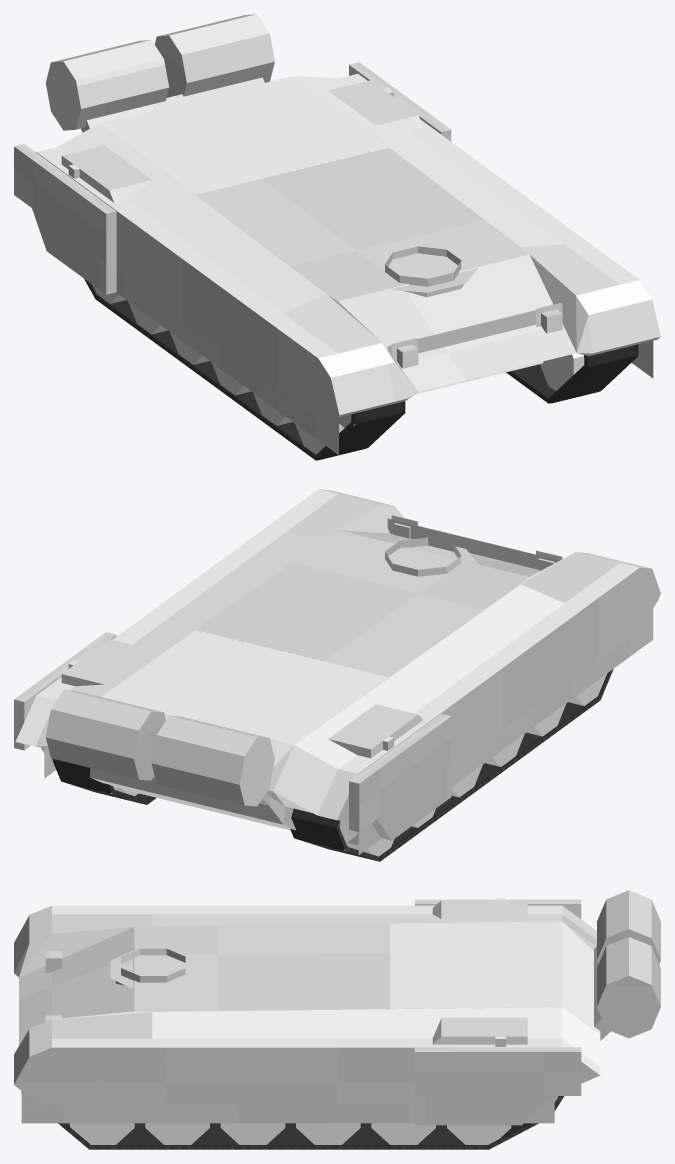
Rendered from t72hull.obj.
The picture shows the model from 3 angles, top to bottom: view 1: azimuth 30°, elevation 25°; view 2: azimuth 150°, elevation 25°; view 3: azimuth 270°, elevation 25°; orthographic projection. The views are drawn at different scales.
Parts seen in each view (by area): view 1: hull, cube29, TracksL, cube3, TracksR, LeftExhaust, cube28, RightExhaust, cube7, cylinder30, cube27, wheel; view 2: hull, cube29, cube3, TracksL, LeftExhaust, cube28, RightExhaust, cube7, cube27, TracksR, cylinder30; view 3: hull, cube4, cube27, TracksR, cube26, RightExhaust, LeftExhaust, wheel13, wheel12, wheel14, wheel, wheel15 (+4 smaller).
Boxes of the visible parts, <box> form: hull: <box>36,14,660,421</box>; cube29: <box>14,144,116,262</box>; TracksL: <box>84,279,405,460</box>; cube3: <box>116,273,338,454</box>; TracksR: <box>506,344,638,403</box>; LeftExhaust: <box>61,145,151,202</box>; cube28: <box>32,208,116,294</box>; RightExhaust: <box>328,80,423,130</box>; cube7: <box>387,303,562,355</box>; cylinder30: <box>385,246,461,286</box>; cube27: <box>349,62,451,141</box>; wheel: <box>540,353,584,390</box>; hull: <box>15,489,660,830</box>; cube29: <box>349,713,451,831</box>; cube3: <box>358,609,653,854</box>; TracksL: <box>290,669,613,861</box>; LeftExhaust: <box>328,704,422,758</box>; cube28: <box>371,765,451,840</box>; RightExhaust: <box>61,639,151,686</box>; cube7: <box>387,518,559,569</box>; cube27: <box>14,632,116,750</box>; TracksR: <box>52,758,156,804</box>; cylinder30: <box>385,537,461,576</box>; hull: <box>14,890,660,1103</box>; cube4: <box>21,1090,554,1123</box>; cube27: <box>414,1047,581,1095</box>; TracksR: <box>21,1090,564,1149</box>; cube26: <box>414,1096,548,1125</box>; RightExhaust: <box>432,1017,527,1044</box>; LeftExhaust: <box>432,900,527,918</box>; wheel13: <box>220,1123,285,1144</box>; wheel12: <box>145,1123,209,1144</box>; wheel14: <box>296,1123,360,1144</box>; wheel: <box>70,1123,134,1144</box>; wheel15: <box>371,1123,435,1144</box>.
Bounding box in the file's own units: 4.4 × 2.07 × 7.89.
